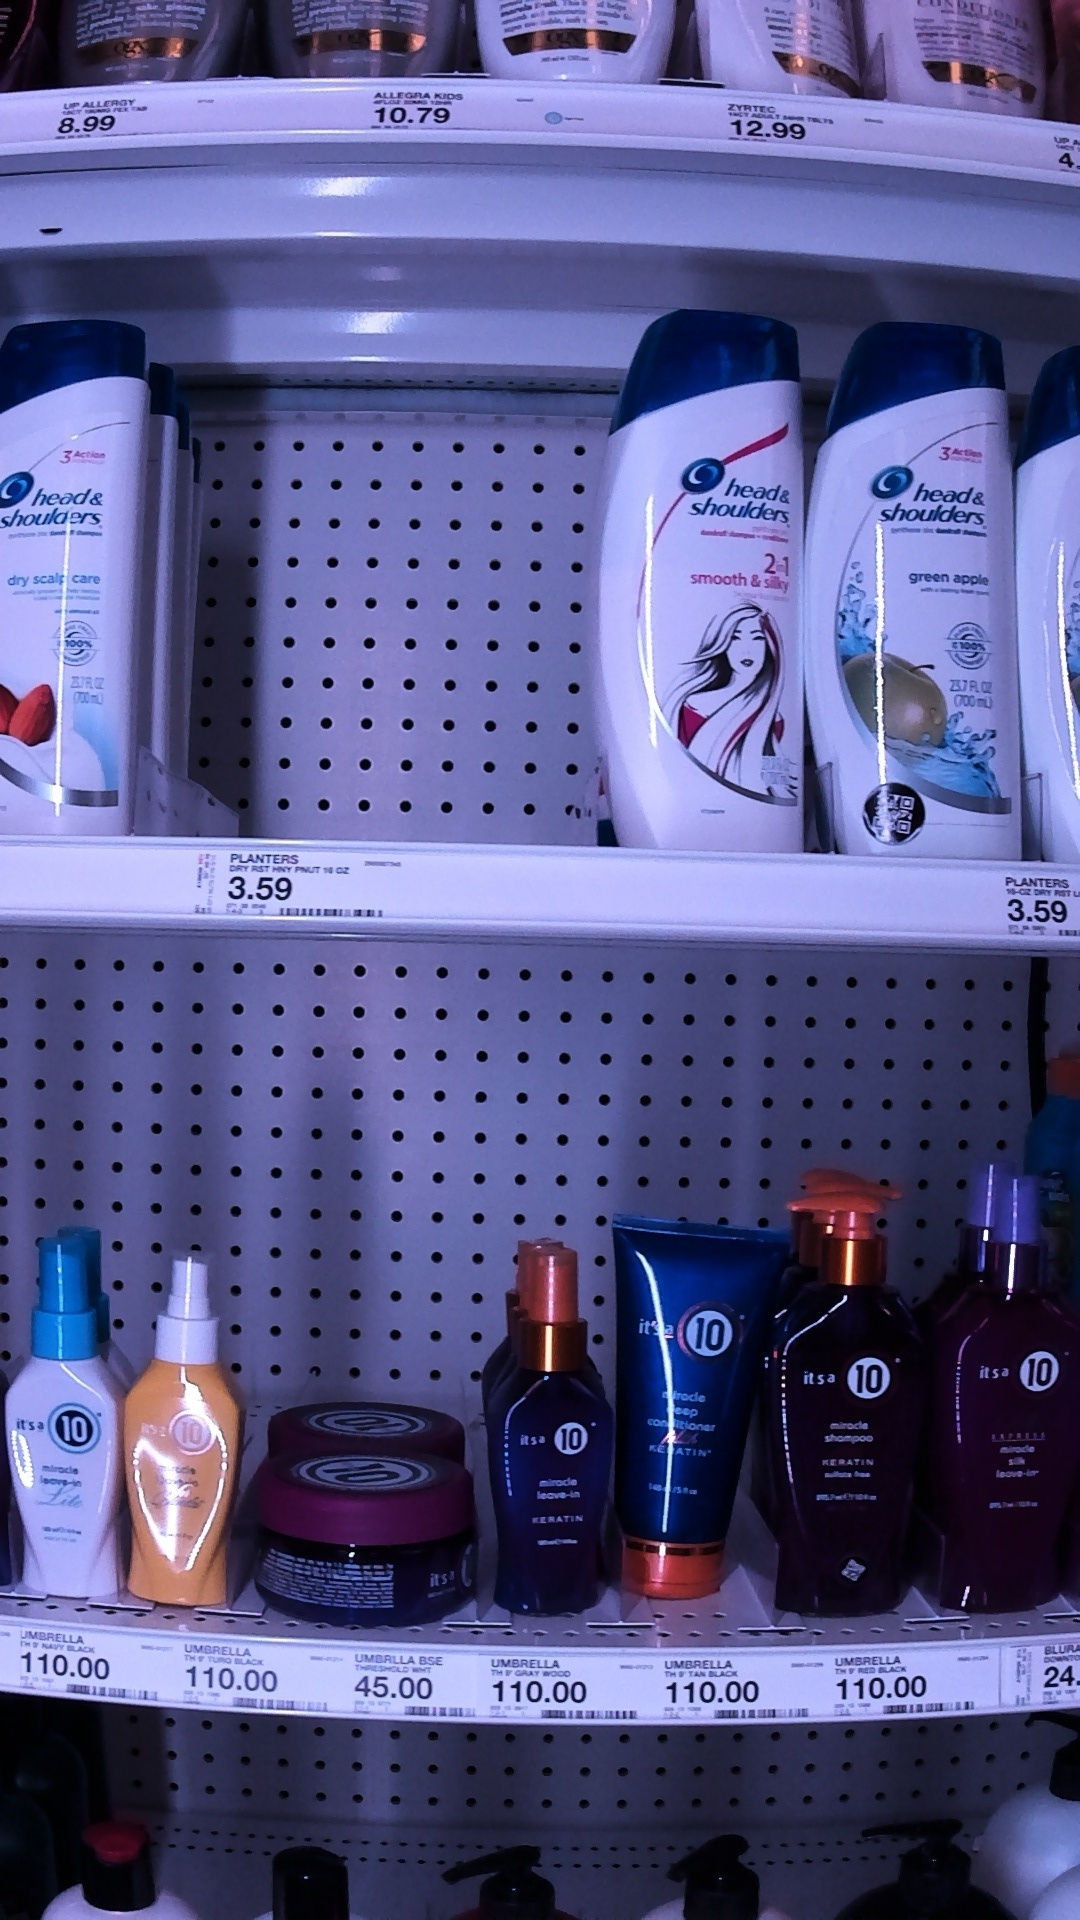ptag: (218, 837, 397, 923), (179, 1636, 335, 1722), (1, 1626, 164, 1706), (829, 1648, 992, 1729), (662, 1651, 811, 1735), (487, 1651, 638, 1733), (715, 86, 858, 164), (353, 1646, 475, 1729), (367, 80, 495, 144), (44, 91, 175, 152)
